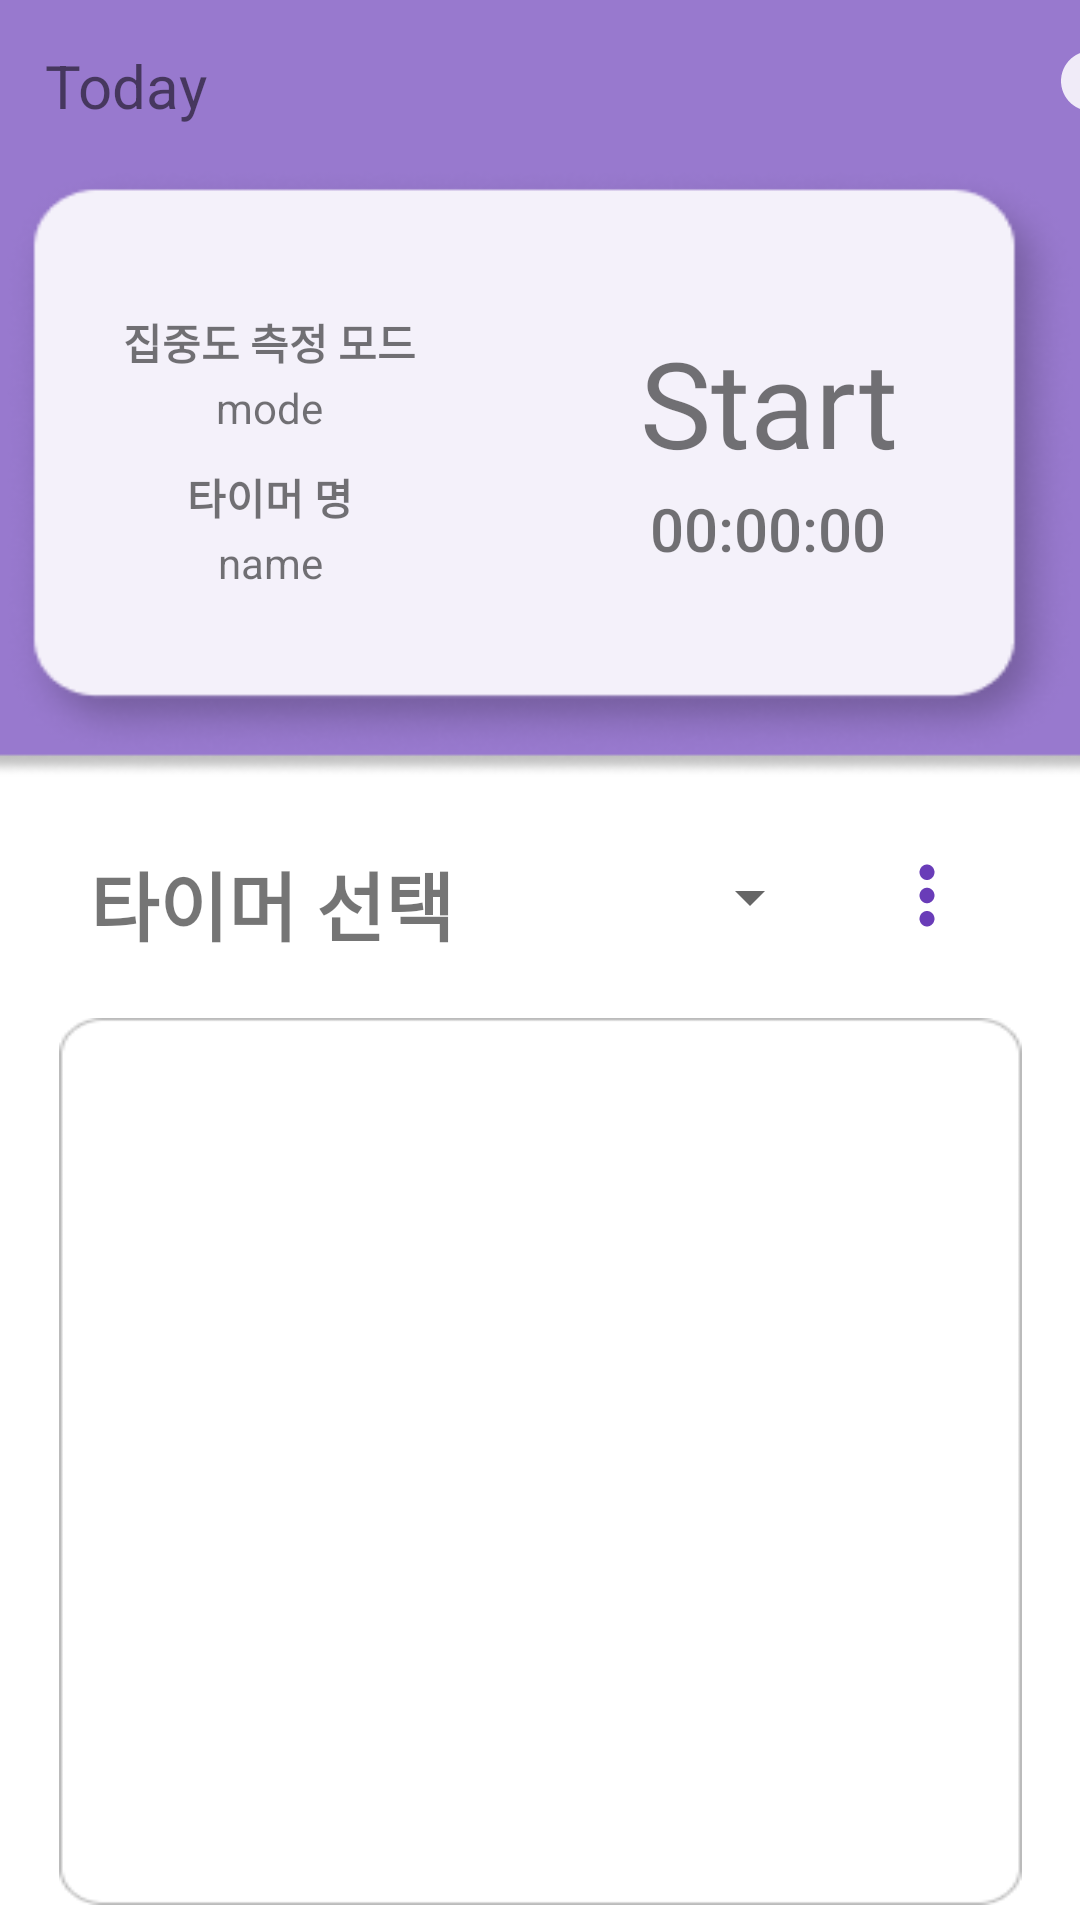

Locate icon controls on the screen. Image size 1080x1920, boxes as bbox=(x1, y1, x2, y2).
more vert: bbox=(919, 864, 935, 927)
